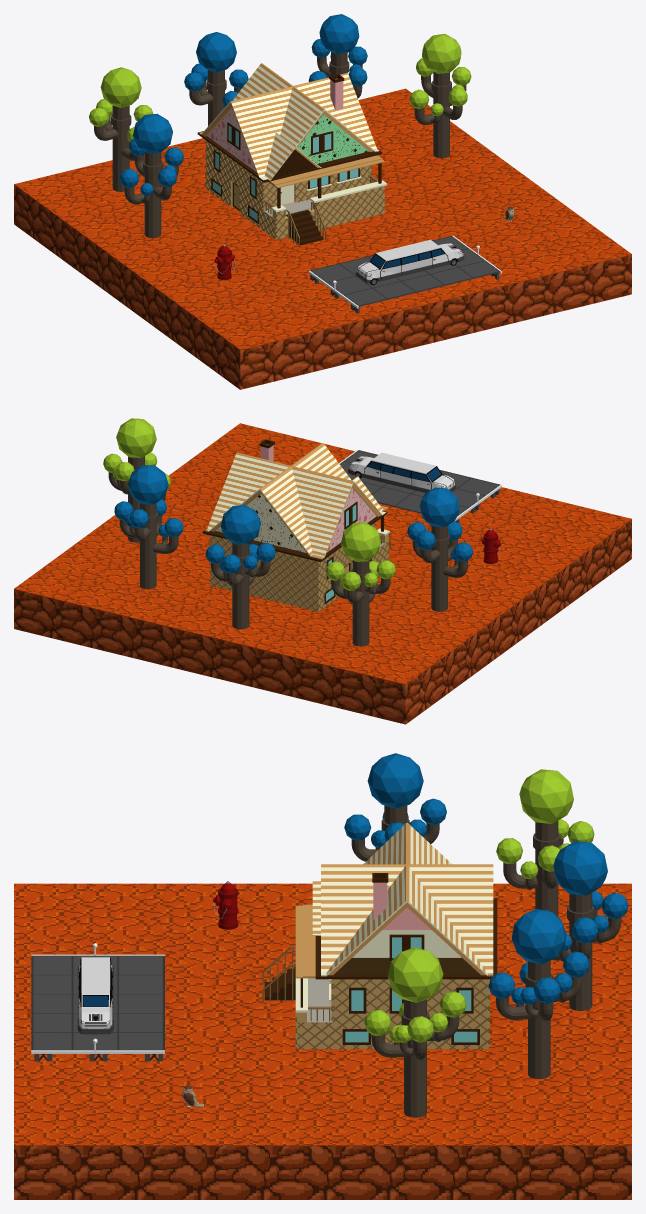
The picture shows the model from 3 angles, top to bottom: view 1: azimuth 30°, elevation 25°; view 2: azimuth 150°, elevation 25°; view 3: azimuth 270°, elevation 25°; orthographic projection. The views are drawn at different scales.
Parts seen in each view (by area): view 1: Cube.001, Cube.1102, VEHICLES_LIMOUSINE, OBJRANDOM_FIRE_HYDRANT; view 2: Cube.001, Cube.1102, VEHICLES_LIMOUSINE, OBJRANDOM_FIRE_HYDRANT; view 3: Cube.001, Cube.1102, VEHICLES_LIMOUSINE, OBJRANDOM_FIRE_HYDRANT.
Part boxes in pixels (x1,y1,x2,y2): Cube.001: (14, 14, 631, 389); Cube.1102: (197, 63, 387, 246); VEHICLES_LIMOUSINE: (355, 239, 464, 285); OBJRANDOM_FIRE_HYDRANT: (214, 244, 235, 279); Cube.001: (14, 418, 631, 724); Cube.1102: (202, 439, 390, 611); VEHICLES_LIMOUSINE: (348, 452, 456, 492); OBJRANDOM_FIRE_HYDRANT: (481, 528, 501, 563); Cube.001: (14, 753, 631, 1199); Cube.1102: (262, 823, 497, 1049); VEHICLES_LIMOUSINE: (77, 957, 113, 1034); OBJRANDOM_FIRE_HYDRANT: (213, 881, 238, 929).
Size of the model in its own units: 4000 by 1614 by 4000.
Materials: 32 (6 with a texture image).
